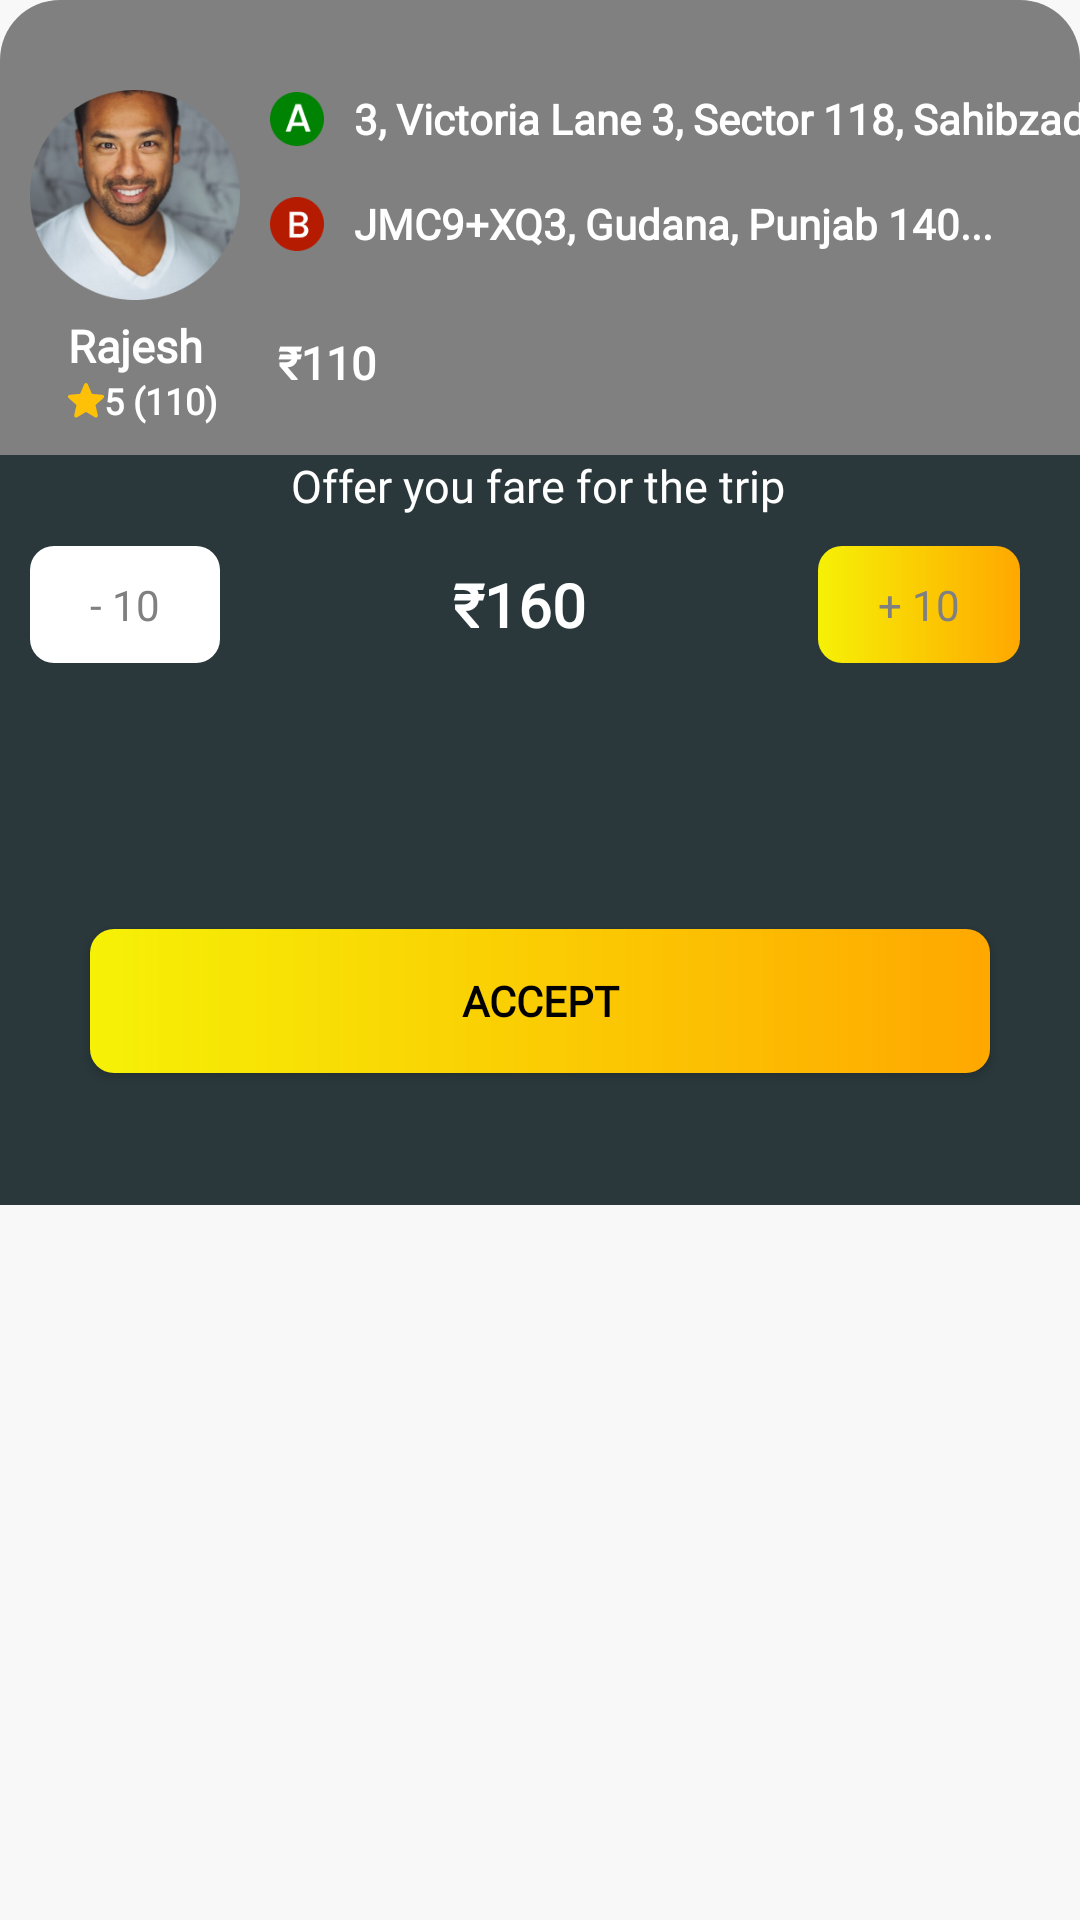

Locate icon controls on the screen. Image size 1080px x 1920px, boxes as (x1, y1, x2, y2).
star: (68, 383, 104, 418)
